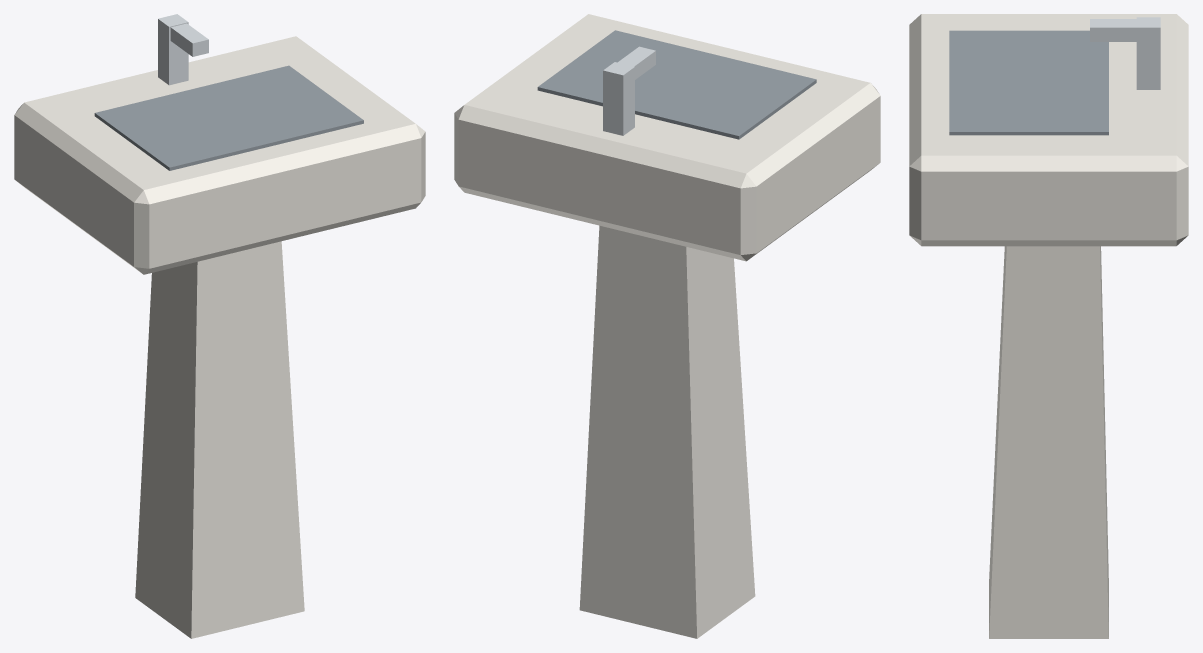
Rendered from PRP_BathroomSink.fbx.
The picture shows the model from 3 angles, left to right: view 1: azimuth 30°, elevation 25°; view 2: azimuth 150°, elevation 25°; view 3: azimuth 270°, elevation 25°; orthographic projection. The views are drawn at different scales.
Visible parts, largest first — view 1: PRP_BathroomSink; view 2: PRP_BathroomSink; view 3: PRP_BathroomSink.
Boxes of the visible parts, x1,y1,x2,y2 form: PRP_BathroomSink: (14,14,425,638); PRP_BathroomSink: (454,14,880,638); PRP_BathroomSink: (909,14,1188,638).
Size of the model in its own units: 1.8 by 3.24 by 1.4.
